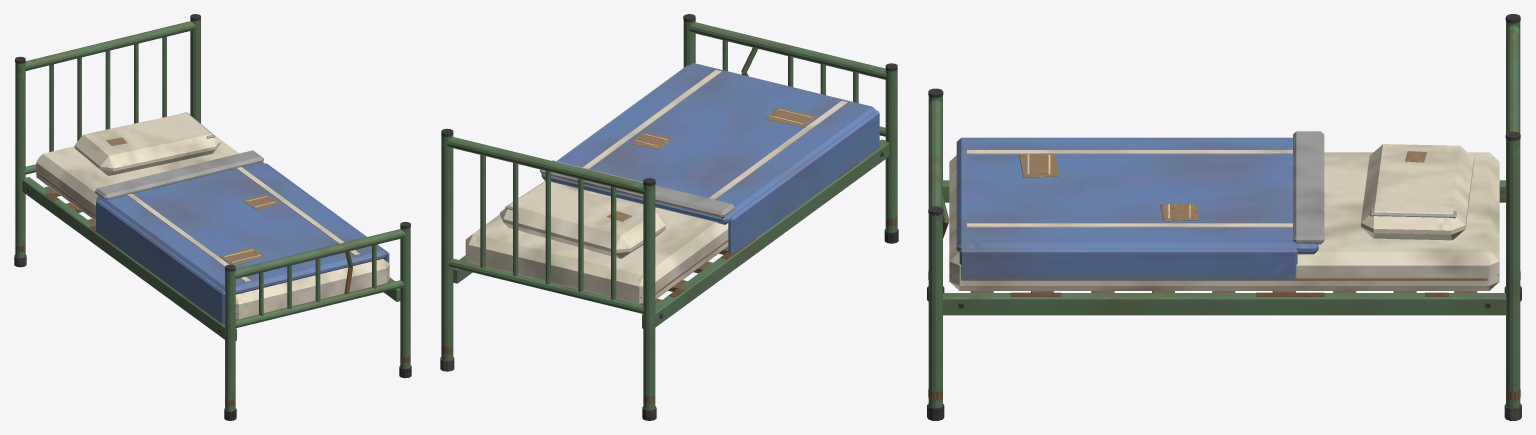
File: SE07_dormitory_bed.glb
3 views of the same model, side by side, from view 1: azimuth 30°, elevation 25°; view 2: azimuth 150°, elevation 25°; view 3: azimuth 270°, elevation 25° (orthographic). The views are drawn at different scales.
Parts seen in each view (by area): view 1: Tubular upright; view 2: Tubular upright; view 3: Tubular upright.
Part boxes in pixels (bbox=[...]): Tubular upright: bbox=[14, 14, 411, 420]; Tubular upright: bbox=[440, 14, 898, 420]; Tubular upright: bbox=[927, 14, 1521, 420].
Size of the model in its own units: 0.9911 by 1.05 by 2.
9 materials, 9 textured.
